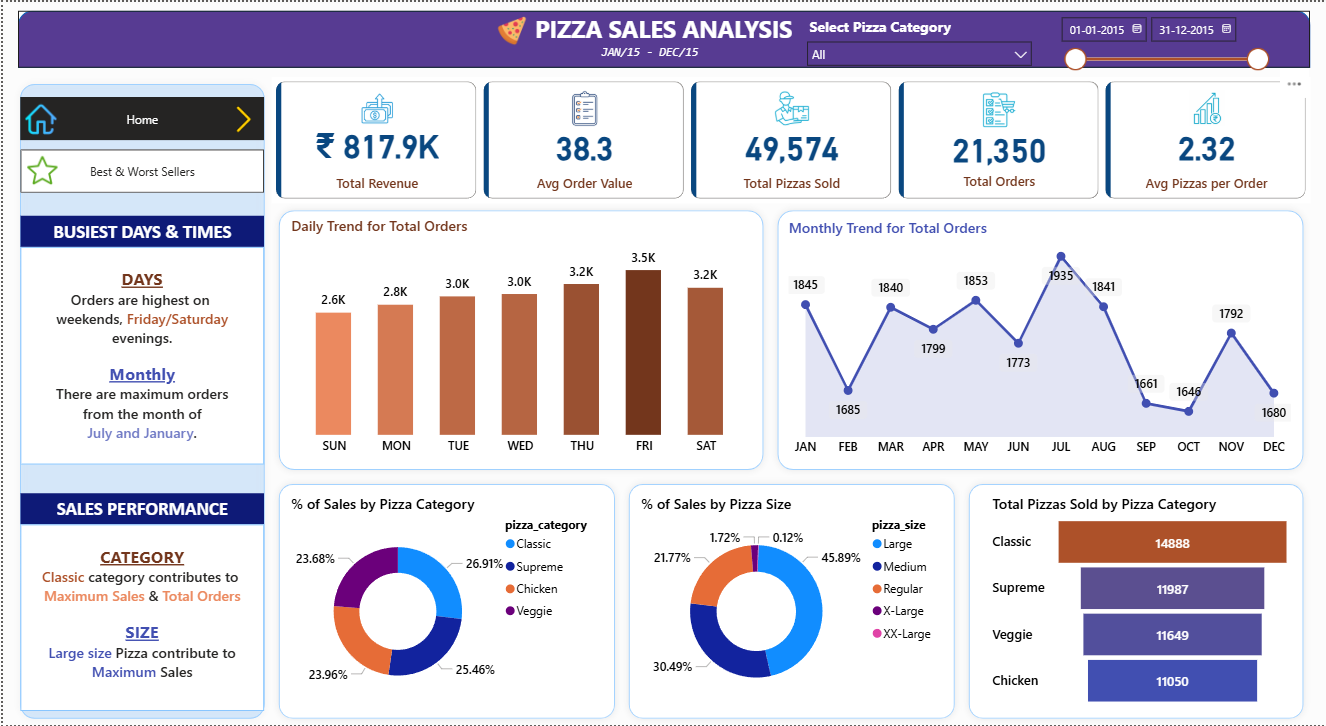

The dashboard page shown, as its layout file describes it:
{"tool":"powerbi","page":{"name":"Home","canvas":[1500,820],"ordinal":0},"visuals":[{"type":"cardVisual","fields":{"Data":["pizza_sales.Total Revenue","pizza_sales.Avg Order Value","pizza_sales.Total Pizzas Sold","pizza_sales.Total Orders","pizza_sales.Avg Pizzas per Order"]},"box":[304.6,85,1177.3,143.1],"z":0},{"type":"shape","box":[17,9.9,1464.9,65.2],"z":1000},{"type":"textbox","box":[596.4,7.1,304.6,51],"z":2000},{"type":"textbox","box":[672.9,42.5,153,29.8],"z":3000},{"type":"image","box":[546.9,11.3,59.5,42.5],"z":4000},{"type":"shape","box":[304.6,228.1,565.3,310.3],"z":5000},{"type":"columnChart","title":"Daily Trend for Total Orders","fields":{"Y":["pizza_sales.Total Orders"],"Category":["pizza_sales.Order Day"]},"box":[321.6,242.3,529.9,280.5],"z":6000},{"type":"shape","box":[869.9,228.1,612,310.3],"z":7000},{"type":"areaChart","title":"Monthly Trend for Total Orders","fields":{"Y":["pizza_sales.Total Orders"],"Category":["pizza_sales.Order Month"]},"box":[885.5,243.7,579.4,280.5],"z":8000},{"type":"shape","box":[304.6,538.4,397,281.9],"z":9000},{"type":"shape","box":[701.3,538.4,385.4,281.9],"z":10000},{"type":"shape","box":[1086.6,538.4,395.3,281.9],"z":11000},{"type":"shape","box":[11.3,85,293.3,735.3],"z":12000},{"type":"donutChart","title":"% of Sales by Pizza Category","fields":{"Category":["pizza_sales.pizza_category"],"Y":["pizza_sales.Total Revenue"]},"box":[321.6,556.8,361.3,246.5],"z":13000},{"type":"donutChart","title":"% of Sales by Pizza Size","fields":{"Y":["pizza_sales.Total Revenue"],"Category":["pizza_sales.pizza_size"]},"box":[718.3,556.8,351.3,246.5],"z":14000},{"type":"funnel","title":"Total Pizzas Sold by Pizza Category","fields":{"Category":["pizza_sales.pizza_category"],"Y":["pizza_sales.Total Pizzas Sold"]},"box":[1116.4,556.8,348.5,246.5],"z":15000},{"type":"textbox","box":[19.8,242.3,276.3,35.4],"z":16000},{"type":"textbox","box":[19.8,277.7,276.3,246.5],"z":17000},{"type":"textbox","box":[19.8,556.8,276.3,35.4],"z":18000},{"type":"textbox","box":[19.8,592.2,276.3,211.1],"z":19000},{"type":"slicer","fields":{"Values":["pizza_sales.pizza_category"]},"box":[901,11.3,274.8,63.8],"z":20000},{"type":"slicer","fields":{"Values":["pizza_sales.order_date"]},"box":[1187.2,7.1,256.4,77.9],"z":21000},{"type":"pageNavigator","box":[19.8,107.7,276.3,49.6],"z":22000},{"type":"pageNavigator","box":[19.8,167.2,276.3,49.6],"z":23000},{"type":"image","box":[249.3,113.3,46.8,39.7],"z":24000},{"type":"image","box":[19.8,110.5,46.8,45.3],"z":25000},{"type":"image","box":[22.7,164.3,43.9,52.4],"z":26000}]}

Visuals, with their boxes in screenshot pixels (x1, y1, x2, y2), scaled from the page's 1500x820 canvas onto the 1326x726 screenshot:
cardVisual - pizza_sales.Total Revenue x pizza_sales.Avg Order Value: <bbox>269, 75, 1310, 202</bbox>
shape: <bbox>15, 9, 1310, 66</bbox>
textbox: <bbox>527, 6, 796, 51</bbox>
textbox: <bbox>595, 38, 730, 64</bbox>
image: <bbox>483, 10, 536, 48</bbox>
shape: <bbox>269, 202, 769, 477</bbox>
"Daily Trend for Total Orders" columnChart: <bbox>284, 215, 753, 463</bbox>
shape: <bbox>769, 202, 1310, 477</bbox>
"Monthly Trend for Total Orders" areaChart: <bbox>783, 216, 1295, 464</bbox>
shape: <bbox>269, 477, 620, 725</bbox>
shape: <bbox>620, 477, 961, 725</bbox>
shape: <bbox>961, 477, 1310, 725</bbox>
shape: <bbox>10, 75, 269, 725</bbox>
"% of Sales by Pizza Category" donutChart: <bbox>284, 493, 604, 711</bbox>
"% of Sales by Pizza Size" donutChart: <bbox>635, 493, 946, 711</bbox>
"Total Pizzas Sold by Pizza Category" funnel: <bbox>987, 493, 1295, 711</bbox>
textbox: <bbox>18, 215, 262, 246</bbox>
textbox: <bbox>18, 246, 262, 464</bbox>
textbox: <bbox>18, 493, 262, 524</bbox>
textbox: <bbox>18, 524, 262, 711</bbox>
slicer - pizza_sales.pizza_category: <bbox>796, 10, 1039, 66</bbox>
slicer - pizza_sales.order_date: <bbox>1049, 6, 1276, 75</bbox>
pageNavigator: <bbox>18, 95, 262, 139</bbox>
pageNavigator: <bbox>18, 148, 262, 192</bbox>
image: <bbox>220, 100, 262, 135</bbox>
image: <bbox>18, 98, 59, 138</bbox>
image: <bbox>20, 145, 59, 192</bbox>
